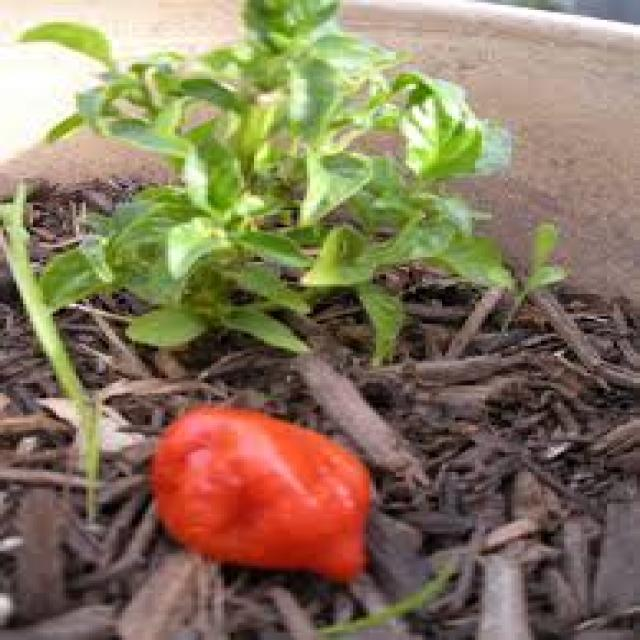organic waste: (148, 405, 363, 586), (399, 74, 475, 183), (297, 146, 369, 237), (172, 133, 238, 215), (10, 19, 112, 72), (280, 52, 336, 143), (346, 284, 399, 366), (165, 215, 228, 277)
